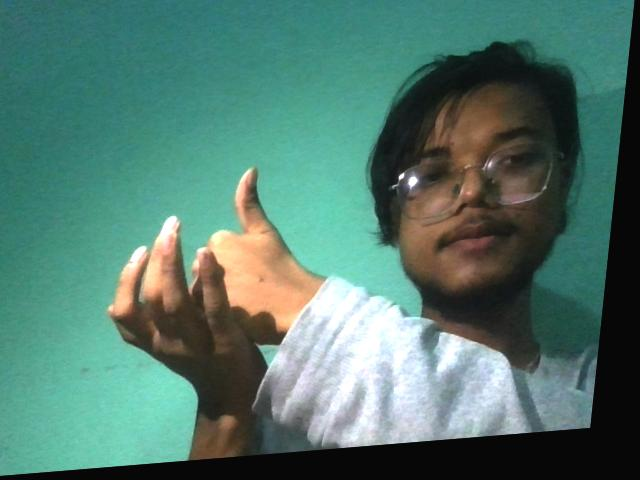help: (91, 155, 363, 399)
